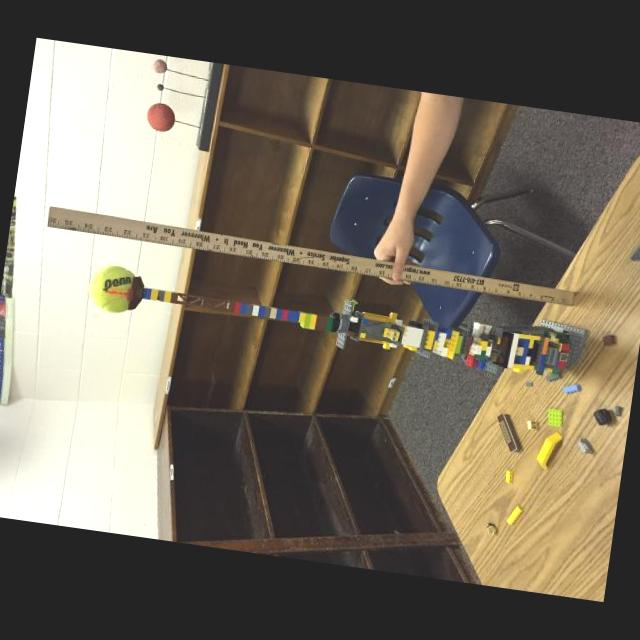tennis-ball: (88, 262, 136, 313)
